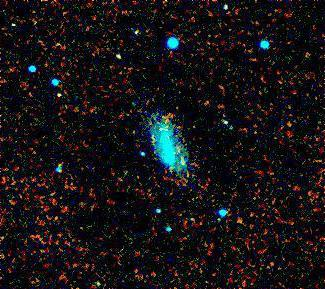star: (45, 81, 75, 111)
